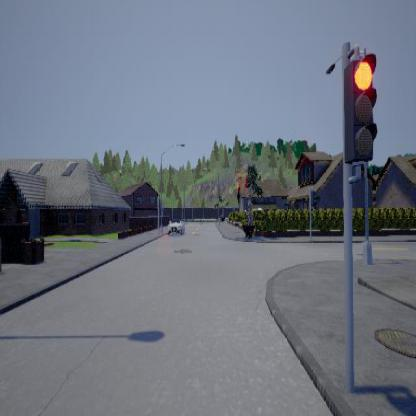traffic_light_red: (343, 43, 377, 183)
vehicle: (167, 218, 184, 234)
